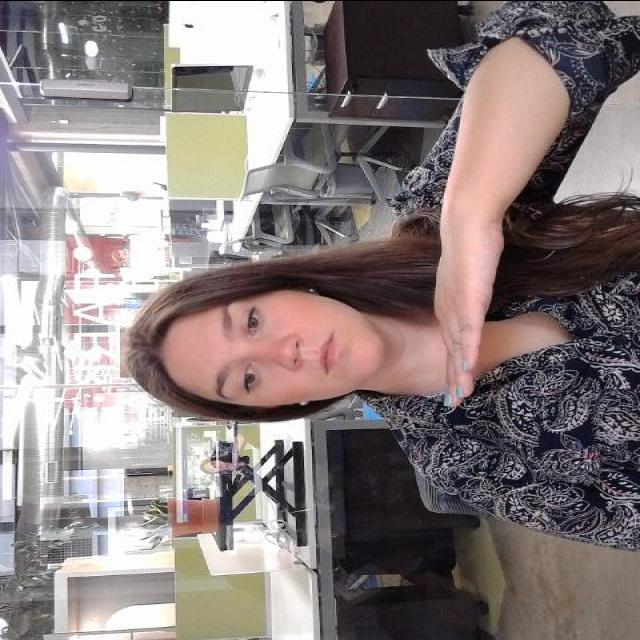Paper: (416, 208, 526, 407)
